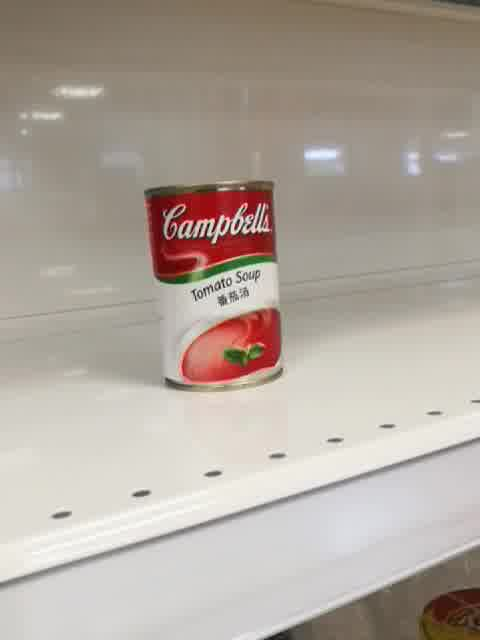tomatosoup: (141, 179, 286, 393)
